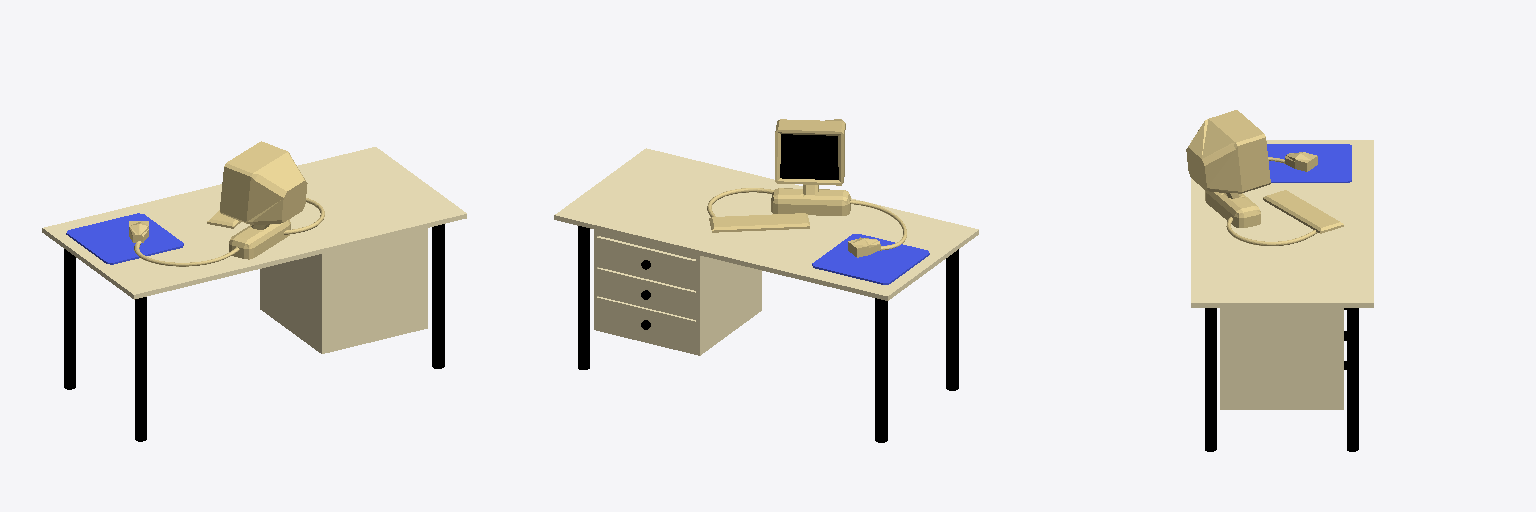
Rendered from Desk_Template_RA.obj.
The picture shows the model from 3 angles: view 1: azimuth 30°, elevation 25°; view 2: azimuth 150°, elevation 25°; view 3: azimuth 270°, elevation 25°; orthographic projection.
Parts seen in each view (by area): view 1: curve2; view 2: curve2; view 3: curve2.
Boxes of the visible parts, box(x1,y1,x2,y2) form: curve2: box(42, 141, 466, 441); curve2: box(554, 119, 978, 442); curve2: box(1186, 110, 1373, 451).
Bounding box in the file's own units: 13.25 × 9.21 × 6.45.